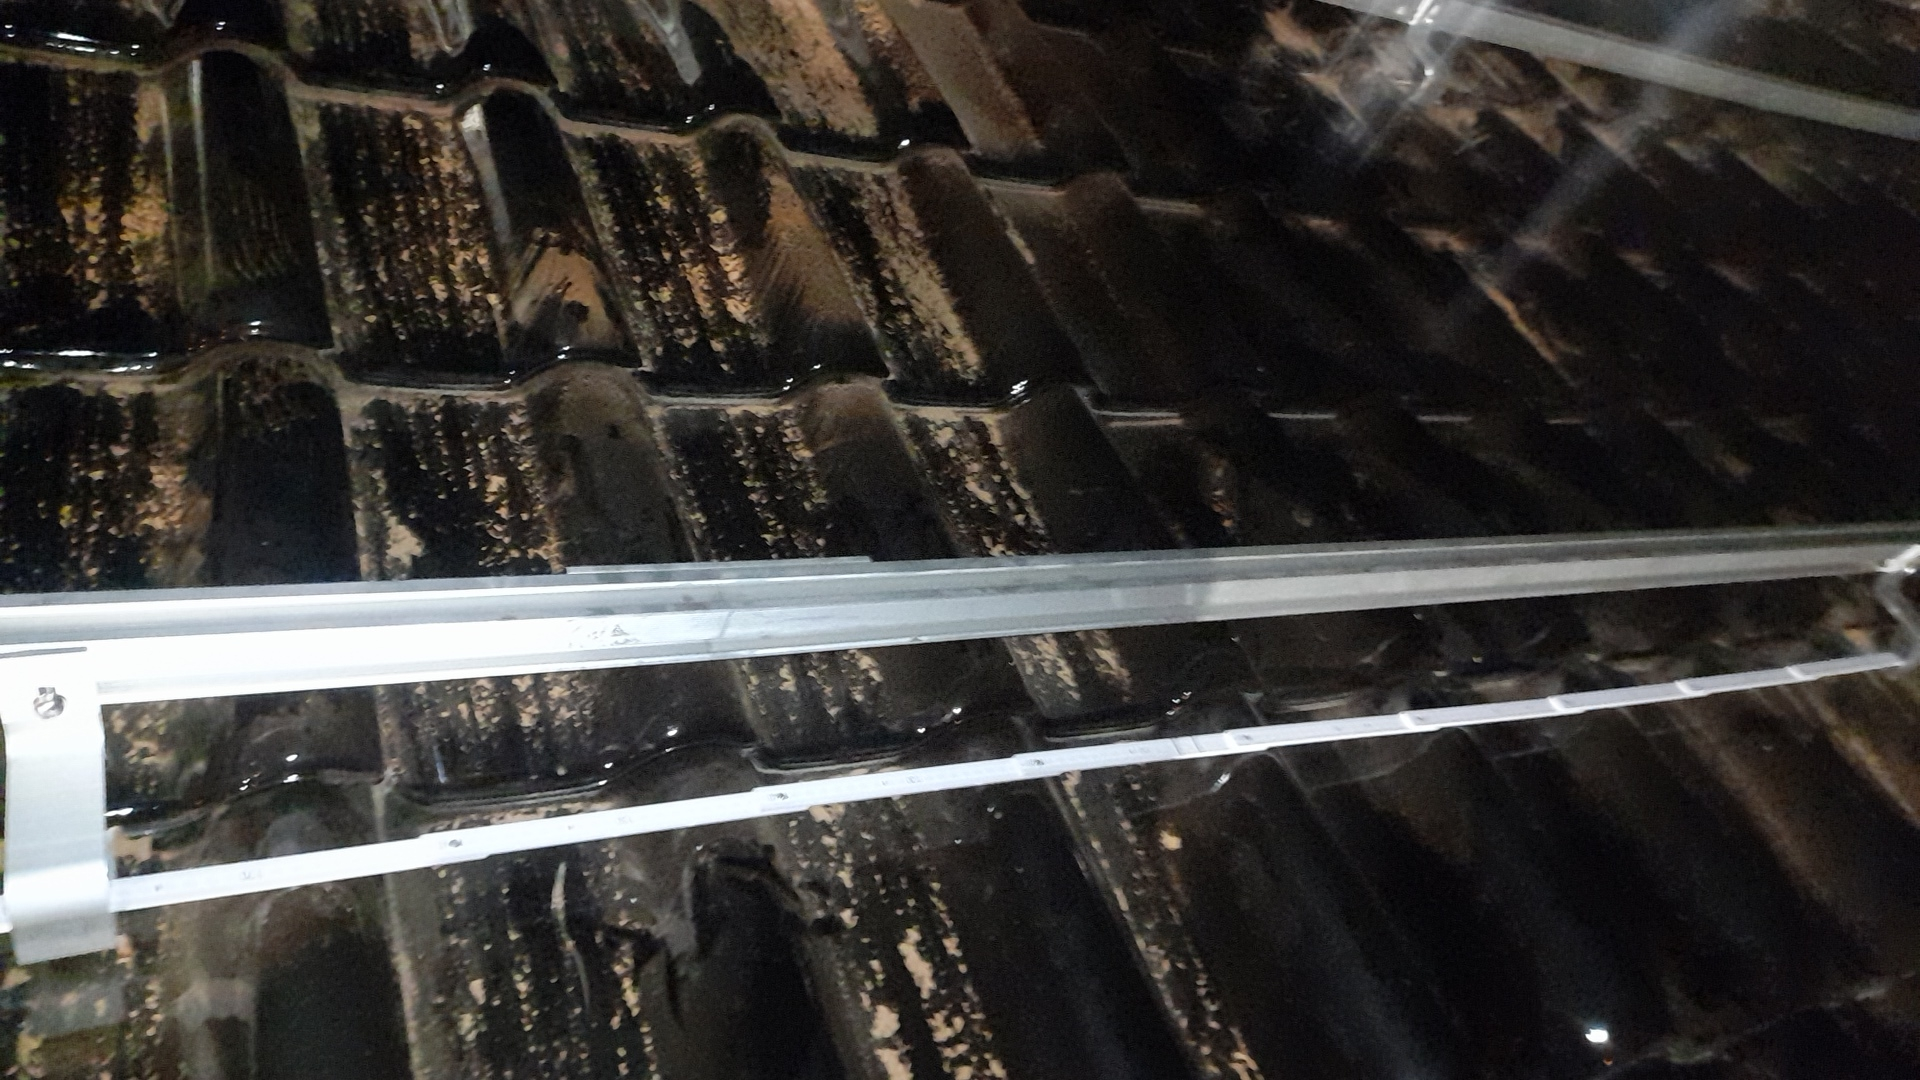hook: (1, 647, 115, 967), (1874, 543, 1920, 669), (1399, 1, 1448, 104)
